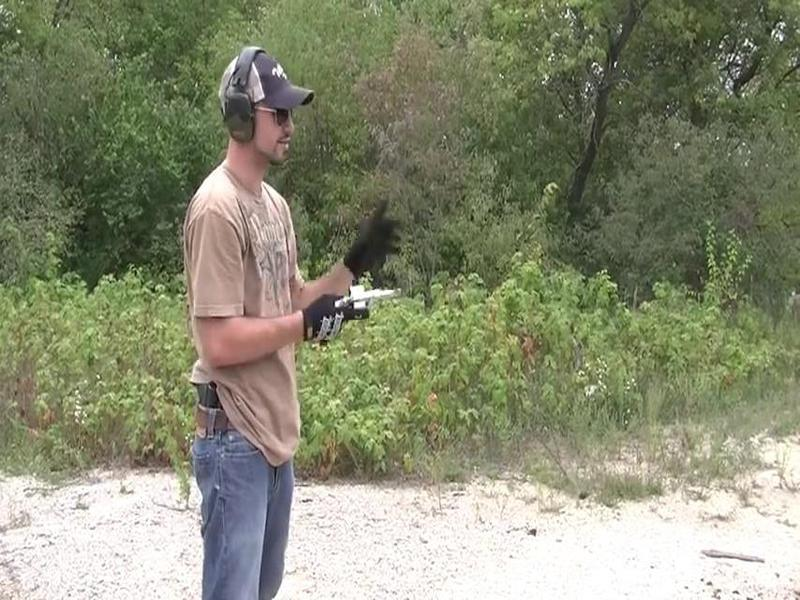Revolver: (297, 273, 417, 348)
